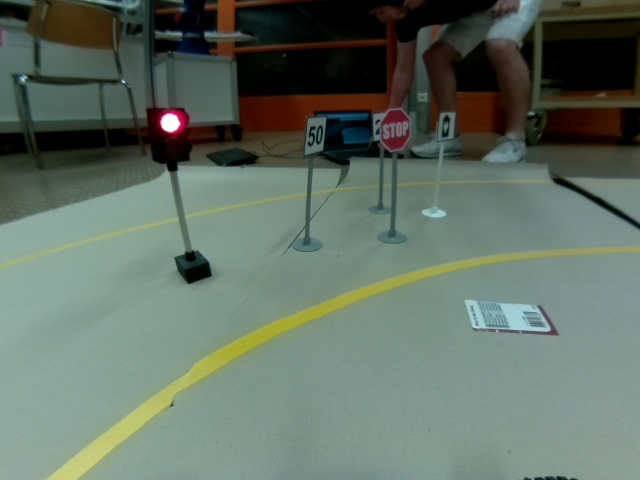battery: (436, 110, 457, 142)
speed50: (303, 115, 327, 155)
stop: (379, 107, 412, 152)
traffic light: (144, 106, 194, 165)
